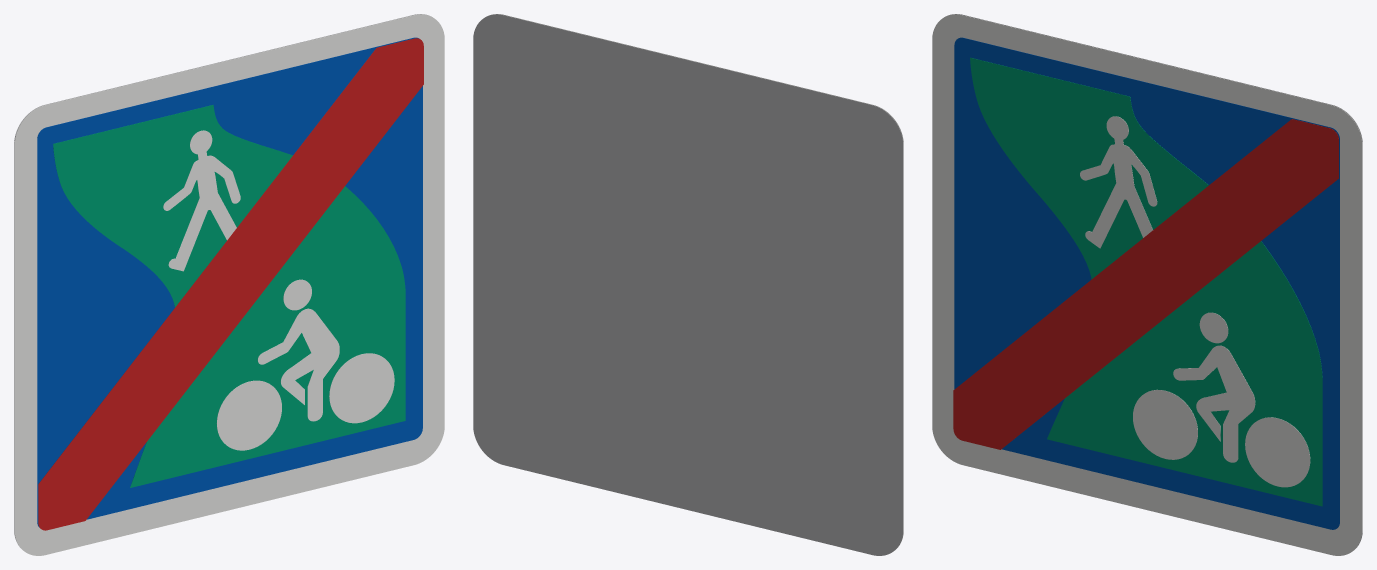
3 views of the same model, side by side, from view 1: azimuth 30°, elevation 25°; view 2: azimuth 150°, elevation 25°; view 3: azimuth 330°, elevation 25° (orthographic).
Parts seen in each view (by area): view 1: C116_p01, C116_p02, C116_p00, C116_p08, C116_p03, C116_p07, C116_p05, C116_p06, C116_dos, C116_p04; view 2: C116_dos, C116_p00; view 3: C116_p01, C116_p02, C116_p00, C116_p08, C116_p03, C116_p07, C116_p06, C116_p05, C116_dos, C116_p04.
Boxes of the visible parts, left/top/right/bottom form: C116_p01: left=37, top=37, right=422, bottom=527; C116_p02: left=53, top=105, right=405, bottom=487; C116_p00: left=14, top=14, right=444, bottom=555; C116_p08: left=38, top=38, right=423, bottom=530; C116_p03: left=163, top=130, right=240, bottom=271; C116_p07: left=257, top=308, right=339, bottom=421; C116_p05: left=216, top=380, right=281, bottom=450; C116_p06: left=329, top=353, right=394, bottom=423; C116_dos: left=14, top=14, right=431, bottom=547; C116_p04: left=283, top=279, right=311, bottom=310; C116_dos: left=473, top=14, right=903, bottom=555; C116_p00: left=486, top=14, right=903, bottom=547; C116_p01: left=954, top=37, right=1339, bottom=529; C116_p02: left=970, top=57, right=1322, bottom=506; C116_p00: left=932, top=14, right=1362, bottom=555; C116_p08: left=953, top=119, right=1338, bottom=449; C116_p03: left=1080, top=116, right=1157, bottom=248; C116_p07: left=1173, top=345, right=1255, bottom=462; C116_p06: left=1245, top=417, right=1310, bottom=487; C116_p05: left=1133, top=389, right=1197, bottom=459; C116_dos: left=945, top=14, right=1362, bottom=547; C116_p04: left=1199, top=312, right=1228, bottom=343.
Bounding box in the file's own units: 0.7 × 0.6999 × 0.0051.
